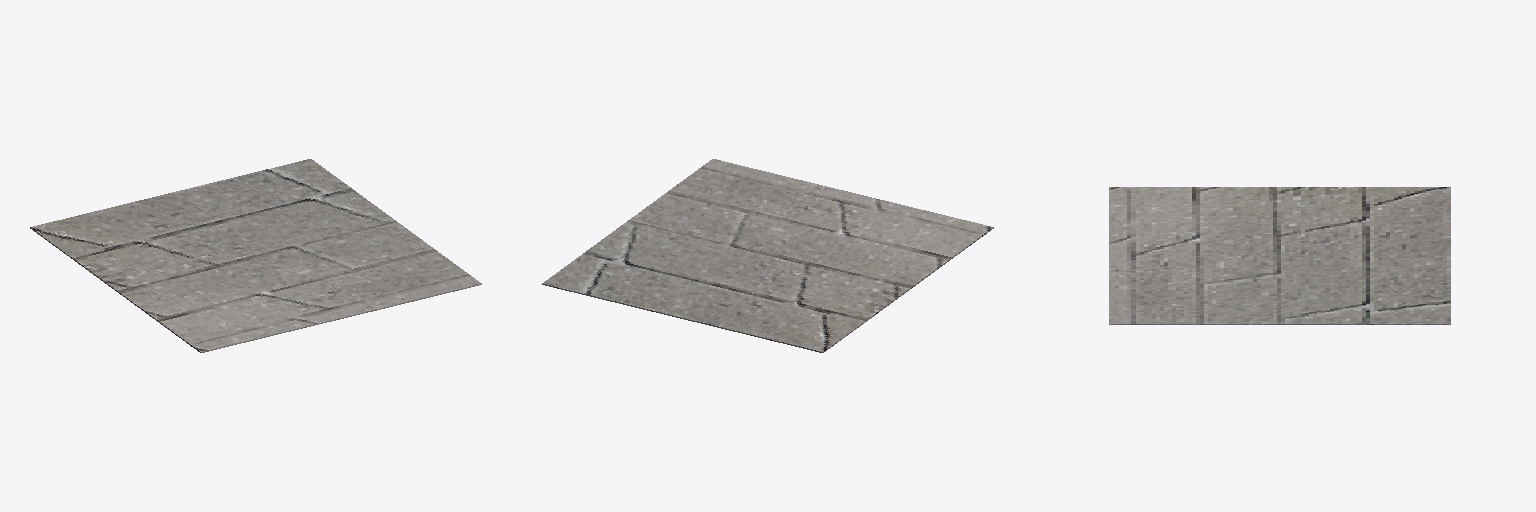
3 views of the same model, side by side, from view 1: azimuth 30°, elevation 25°; view 2: azimuth 150°, elevation 25°; view 3: azimuth 270°, elevation 25° (orthographic).
Parts seen in each view (by area): view 1: Cube; view 2: Cube; view 3: Cube.
Part boxes in pixels (bbox=[...]): Cube: bbox=[30, 159, 481, 352]; Cube: bbox=[542, 159, 993, 352]; Cube: bbox=[1109, 187, 1450, 324].
Bounding box in the file's own units: 55.01 × 0.2332 × 57.9.
Materials: 1 (1 with a texture image).